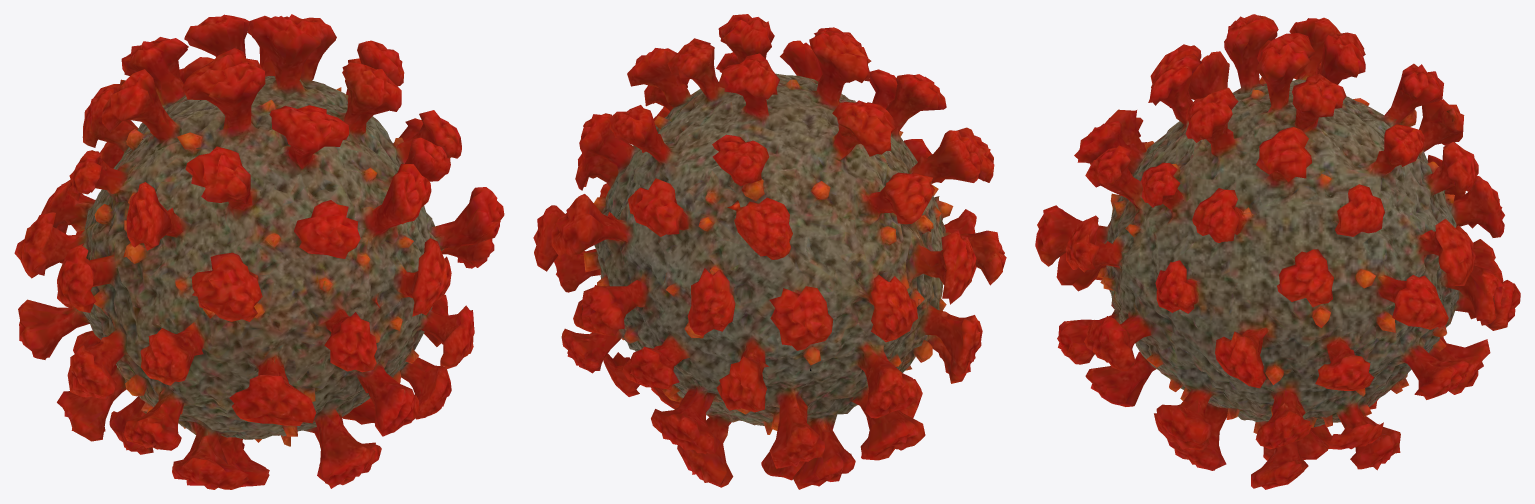
File: virus.glb
The picture shows the model from 3 angles, left to right: view 1: azimuth 30°, elevation 25°; view 2: azimuth 150°, elevation 25°; view 3: azimuth 270°, elevation 25°; orthographic projection. The views are drawn at different scales.
Parts seen in each view (by area): view 1: attack-membrane; view 2: attack-membrane; view 3: attack-membrane.
Part boxes in pixels (<box>): attack-membrane: <box>14,14,504,489</box>; attack-membrane: <box>533,14,1006,489</box>; attack-membrane: <box>1035,14,1520,489</box>.
Size of the model in its own units: 1.9 by 2.05 by 2.04.
1 material, 1 textured.
